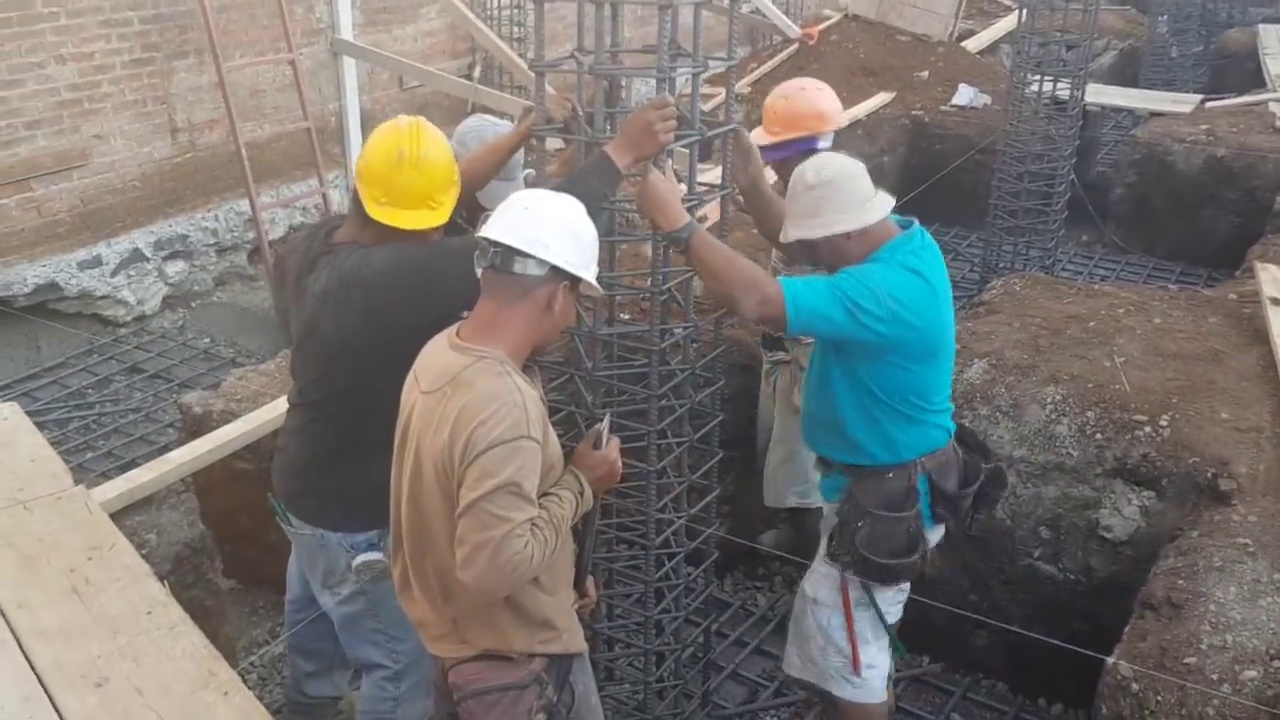helmet: (475, 195, 613, 296), (352, 111, 451, 230), (748, 74, 845, 139)
helmet-off: (764, 158, 913, 274), (453, 104, 534, 224)
helmet-on: (453, 188, 608, 371), (331, 112, 465, 250), (745, 76, 846, 195)
person: (644, 131, 964, 719), (266, 98, 554, 718), (388, 190, 622, 711), (740, 76, 850, 603)
